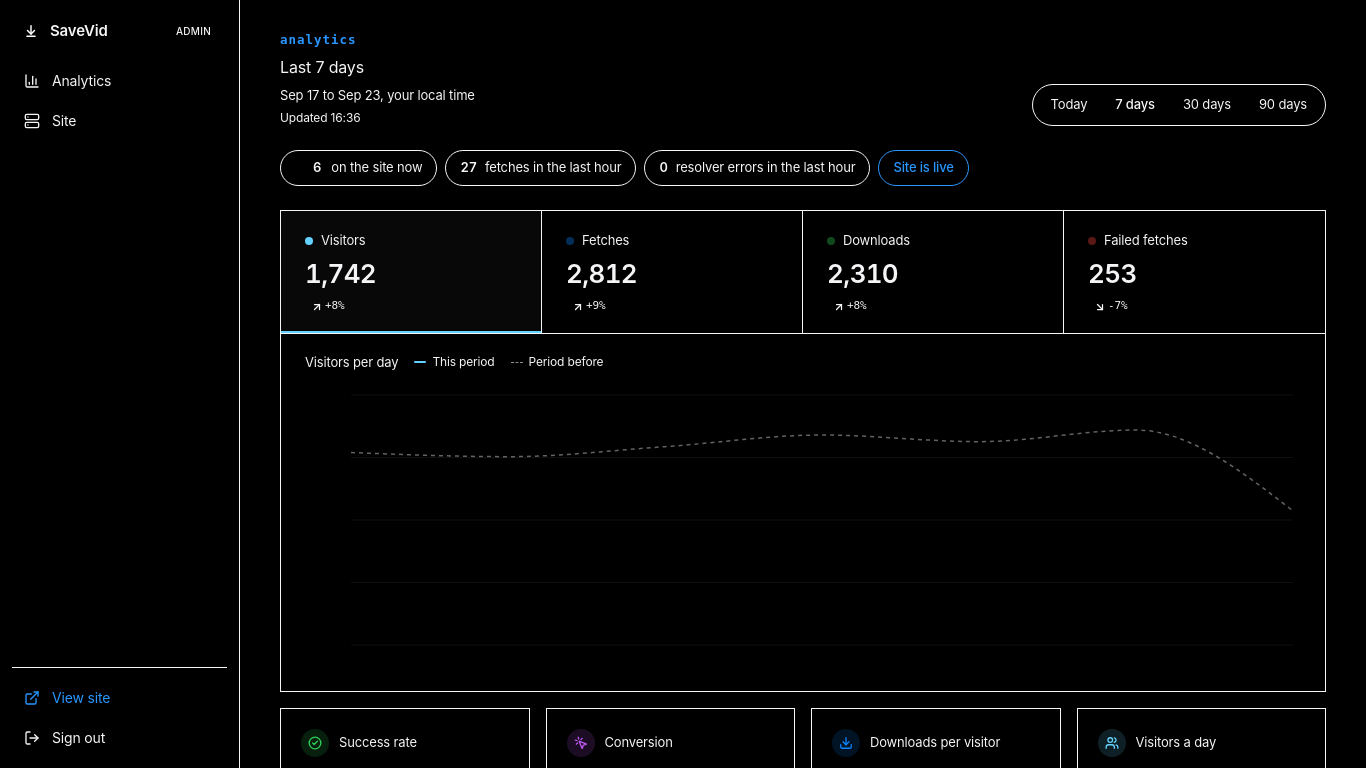
Scenario: a range tab writes the URL and refetches the report for that range
Expected: the text "Sep 17 to Sep 23, your local time" is shown, [280,85,475,106]
Click the button "30 days": (1207, 105) [1169,89,1245,121]
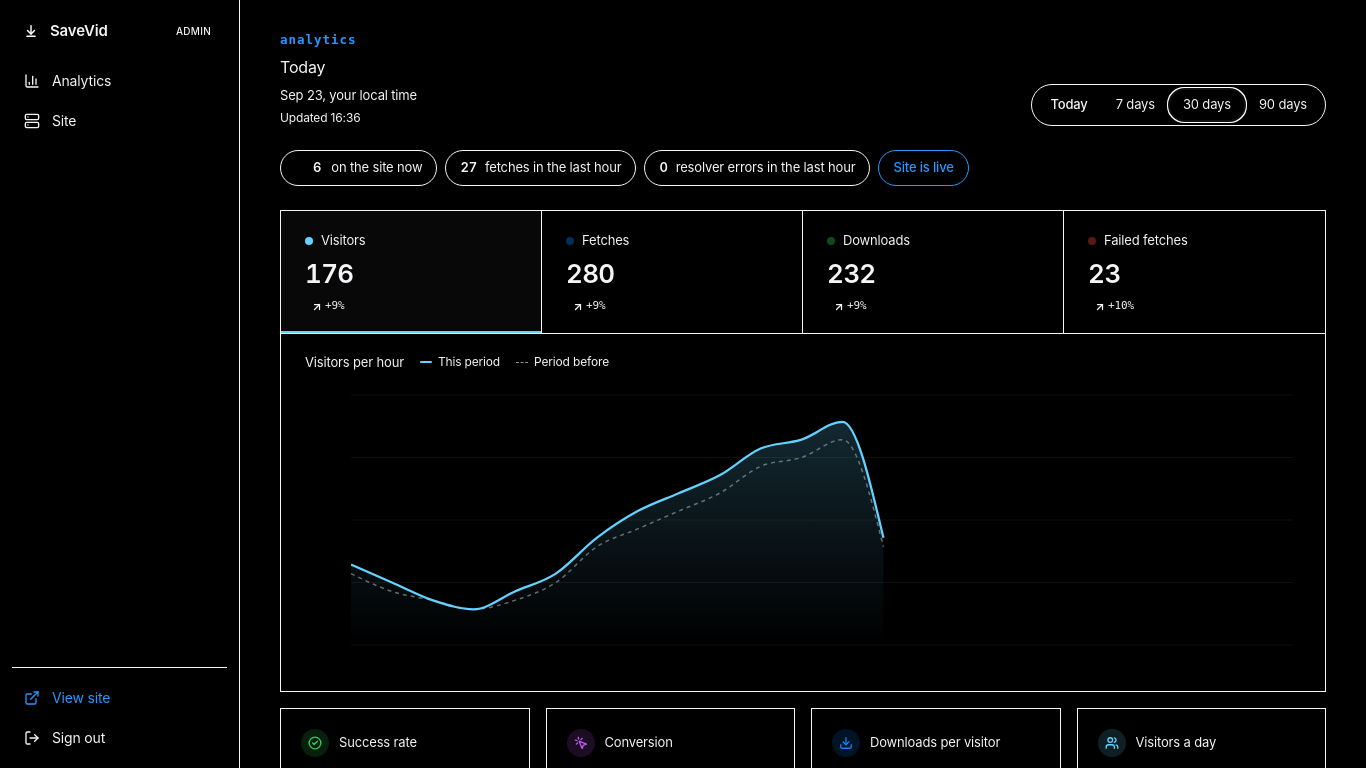
Expected: the text "Sep 23, your local time" is shown, [280,85,417,106]
Now the heading "Today" is shown, box [280,57,325,77]
